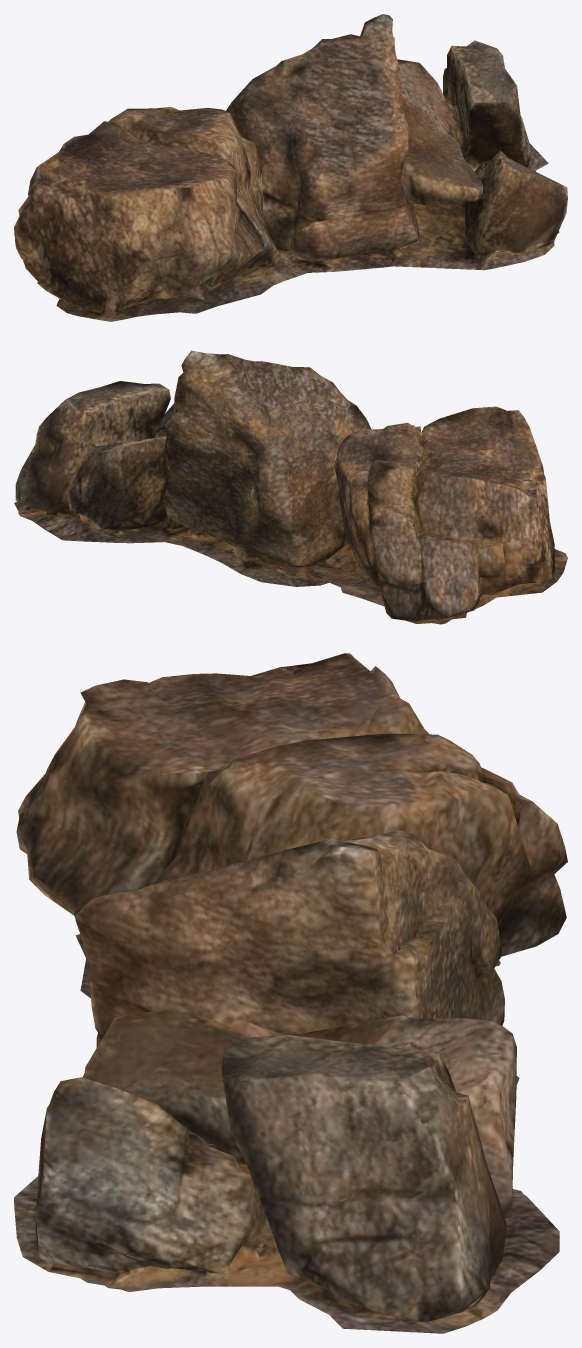
File: ph_namaqualand_boulder_02.glb
3 renders of one model, top to bottom at view 1: azimuth 30°, elevation 25°; view 2: azimuth 150°, elevation 25°; view 3: azimuth 270°, elevation 25°, orthographic. The views are drawn at different scales.
Parts seen in each view (by area): view 1: boulder_02; view 2: boulder_02; view 3: boulder_02.
Boxes of the visible parts, x1,y1,x2,y2 form: boulder_02: [14, 14, 567, 321]; boulder_02: [14, 350, 567, 624]; boulder_02: [14, 653, 567, 1333].
Bounding box in the file's own units: 2.52 × 0.8755 × 1.23.
1 material, 1 textured.
